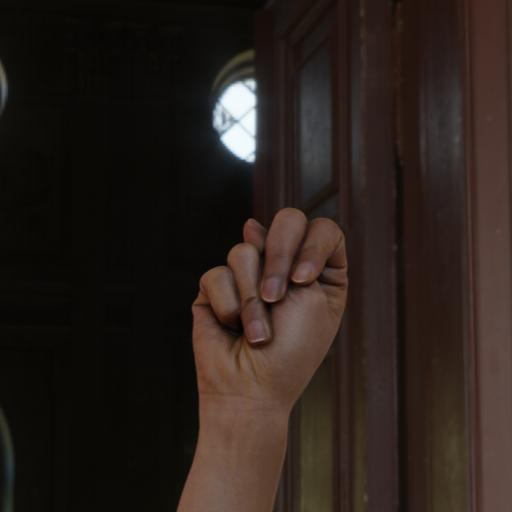N: (176, 199, 360, 465)
